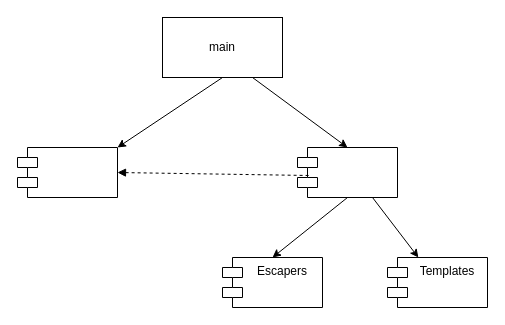
This 505x325 diagram has some shape labels left out. The box of each missing label's shape, as (x1, y1, x2, y2) in pixels:
Parsing: (16, 146, 118, 198)
Templating: (296, 146, 398, 198)
